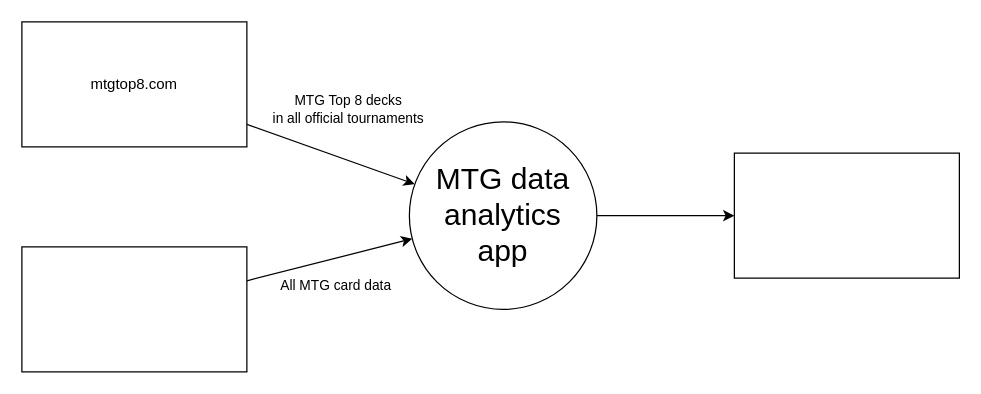
This 981x394 diagram has some shape labels left out. Here are the shapes that lost their labels. From the top down, the centre of each, then its label:
At (846,215): "MTG tournament statistics and analytics".
At (134,309): "scryfall.com".
